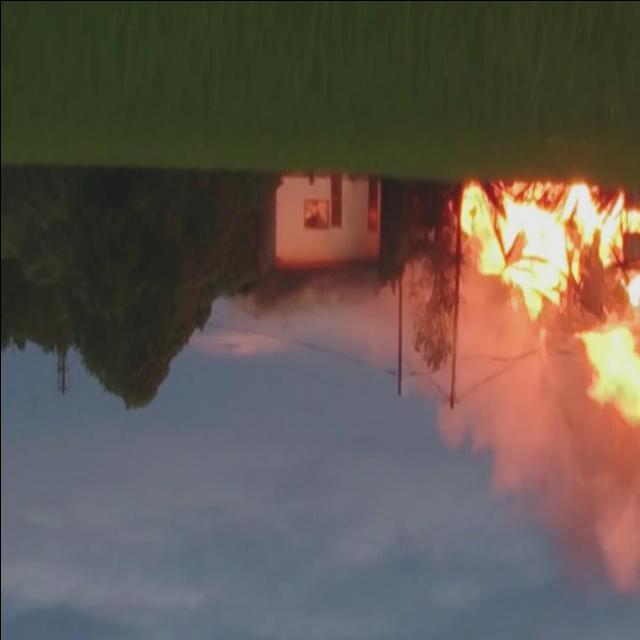Fire: (462, 185, 638, 427)
